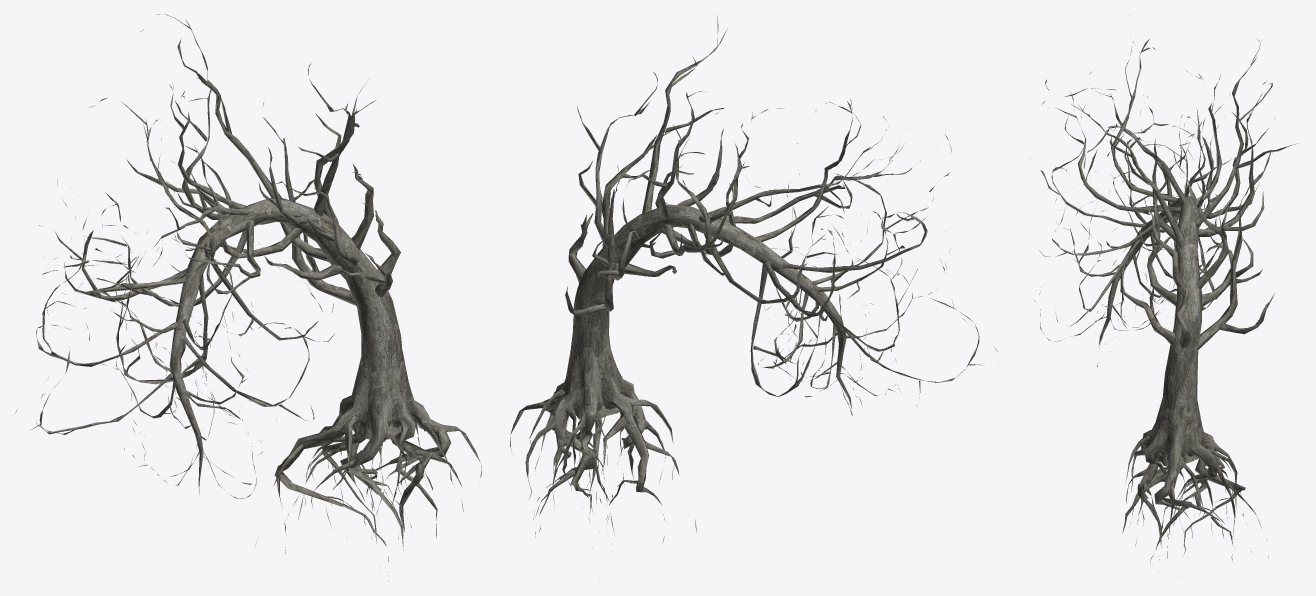
The model's file is olu_agac_c.gltf.
3 views of the same model, side by side, from view 1: azimuth 30°, elevation 25°; view 2: azimuth 150°, elevation 25°; view 3: azimuth 270°, elevation 25° (orthographic). The views are drawn at different scales.
Visible parts, largest first — view 1: olu_agac_c; view 2: olu_agac_c; view 3: olu_agac_c.
Boxes of the visible parts, bbox=[...] form: olu_agac_c: bbox=[15, 14, 481, 580]; olu_agac_c: bbox=[510, 15, 997, 581]; olu_agac_c: bbox=[1029, 35, 1297, 576].
Bounding box in the file's own units: 4.61 × 5.06 × 2.65.
Materials: 1 (1 with a texture image).
